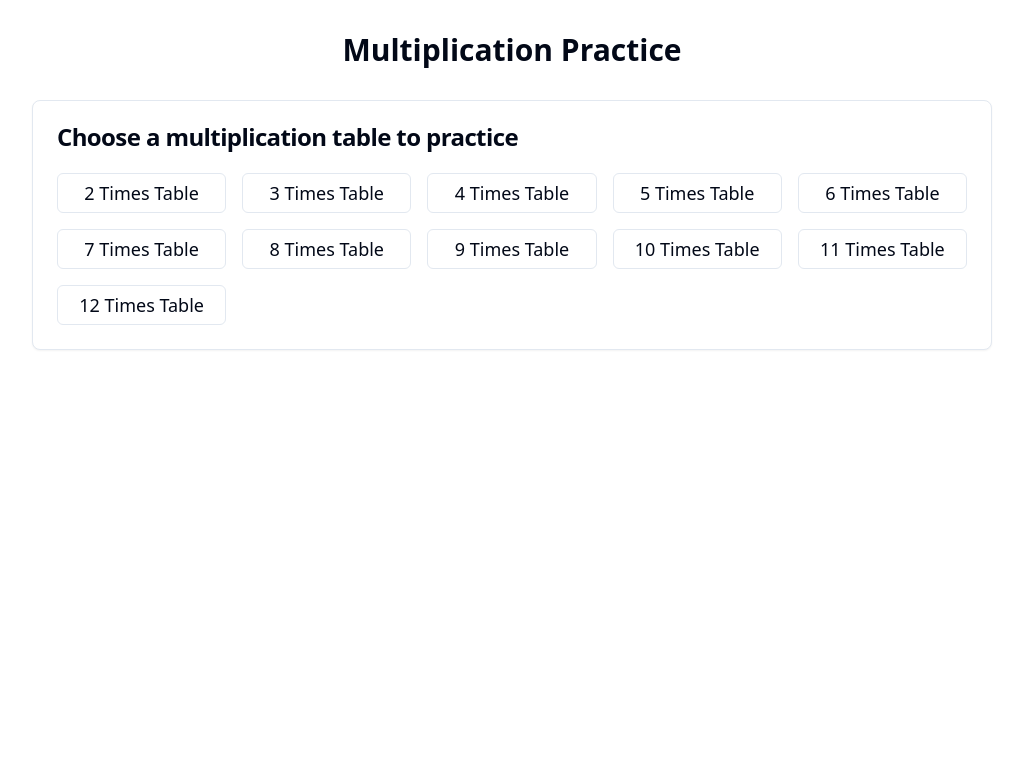
Scenario: MultiplicationGame › Accessibility › maintains focus management during game play
Click the button "2 Times Table" at (142, 193), box [57,173,226,213]
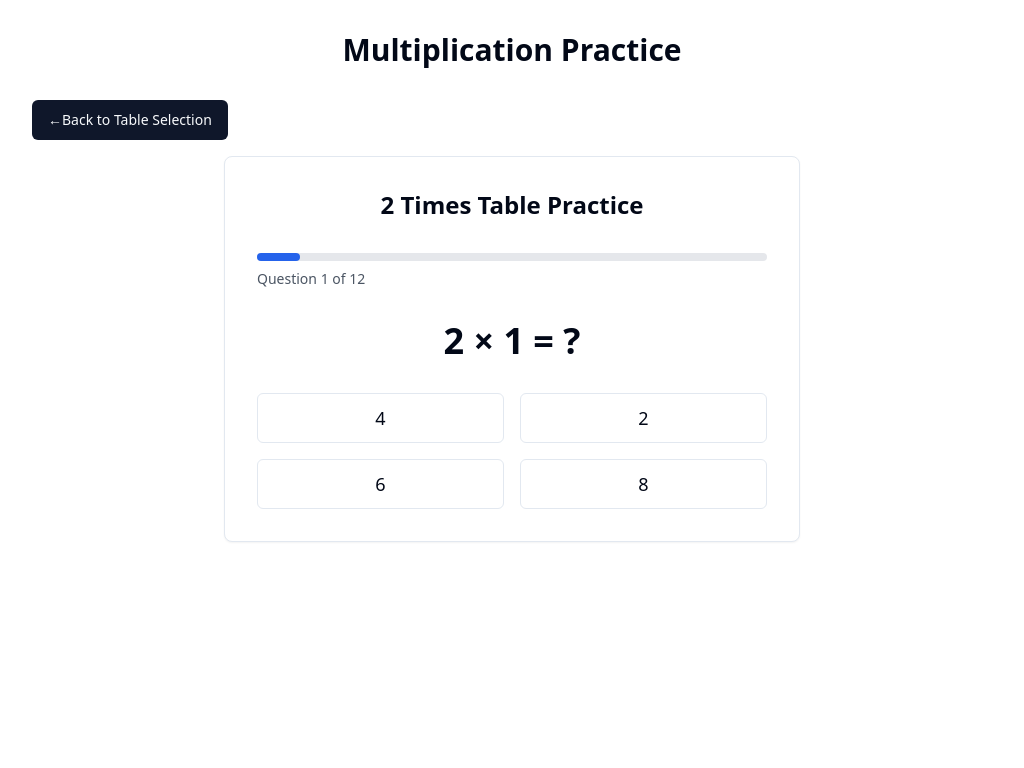
Note: Answer first question
Click the button "4" at (380, 418), box [257,393,504,443]
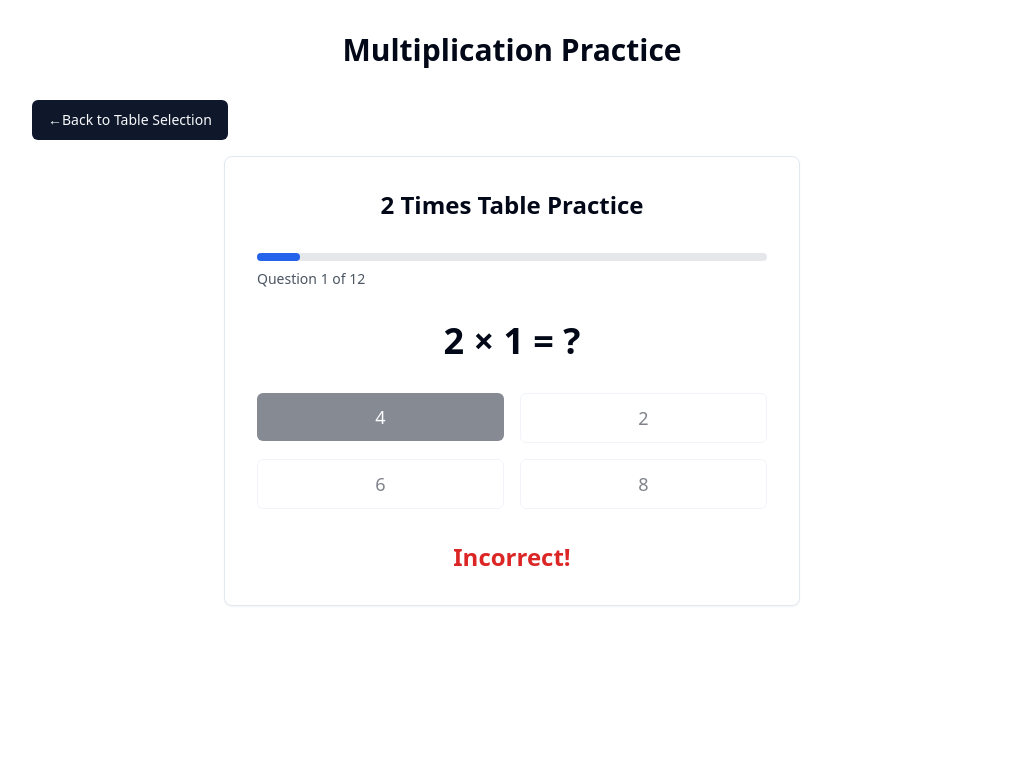
Check: the button "4" is disabled, box [257,393,504,441]
Check: the button "2" is disabled, box [520,393,767,443]
Check: the button "6" is disabled, box [257,459,504,509]
